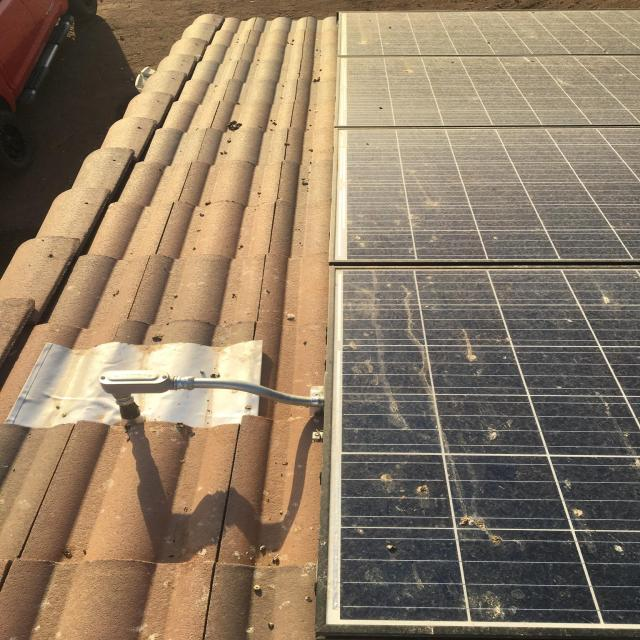dust-solar-panel: (330, 7, 640, 628)
